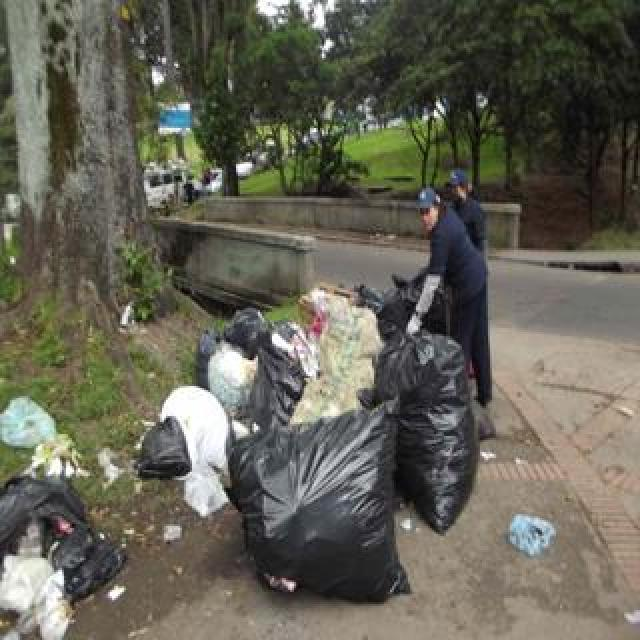high trash: (138, 282, 476, 599), (0, 396, 126, 639)
less trash: (508, 514, 555, 556)
